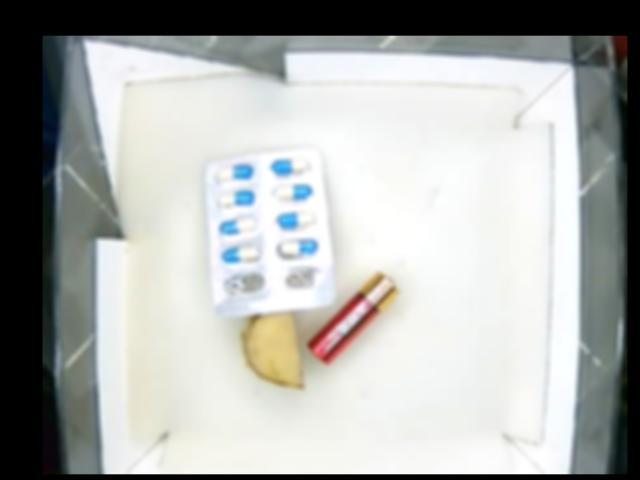Battery: (308, 273, 398, 365)
Medicine: (208, 148, 329, 320)
Potato: (241, 309, 300, 390)
